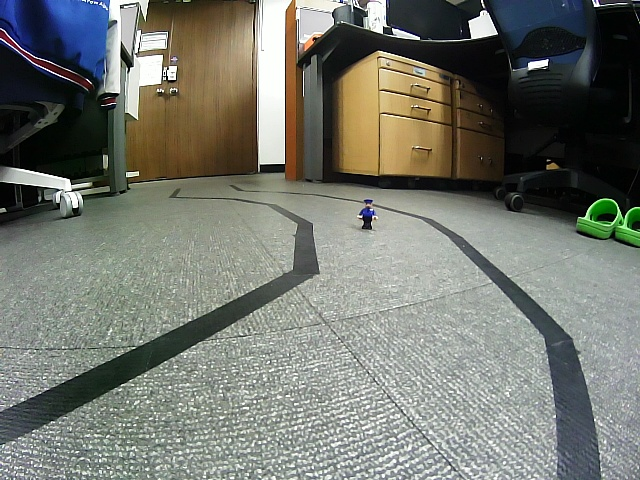person: (357, 198, 379, 231)
